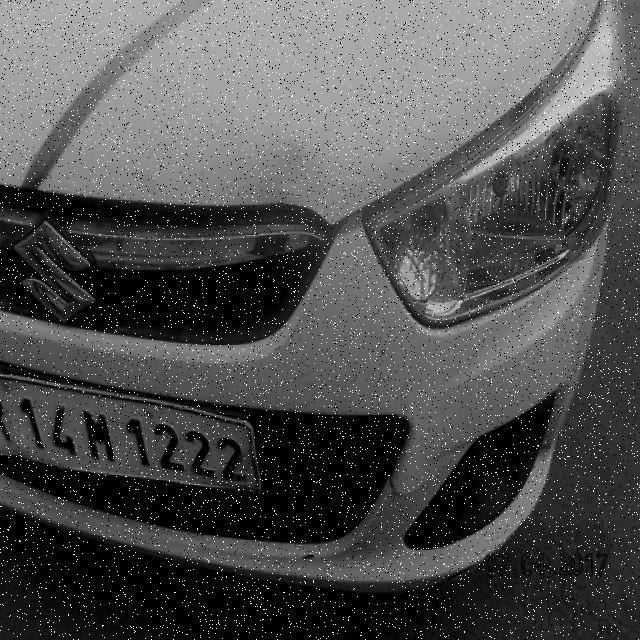car damage: (267, 131, 324, 206), (387, 465, 451, 503)
